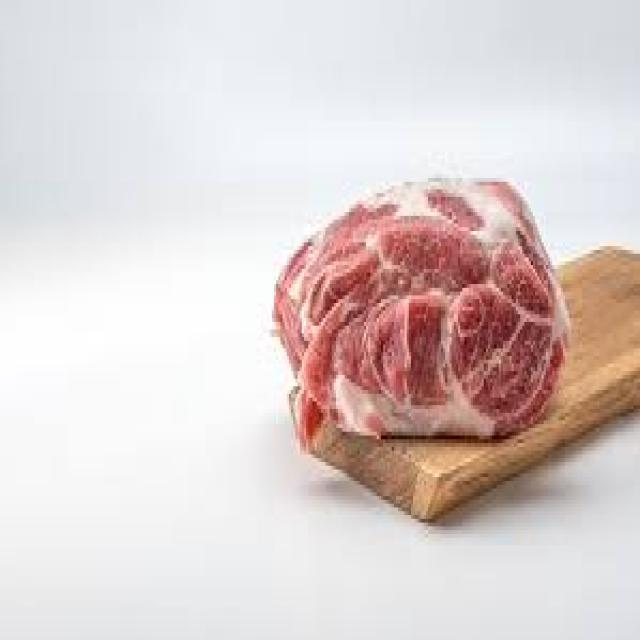Pork: (274, 181, 567, 446)
